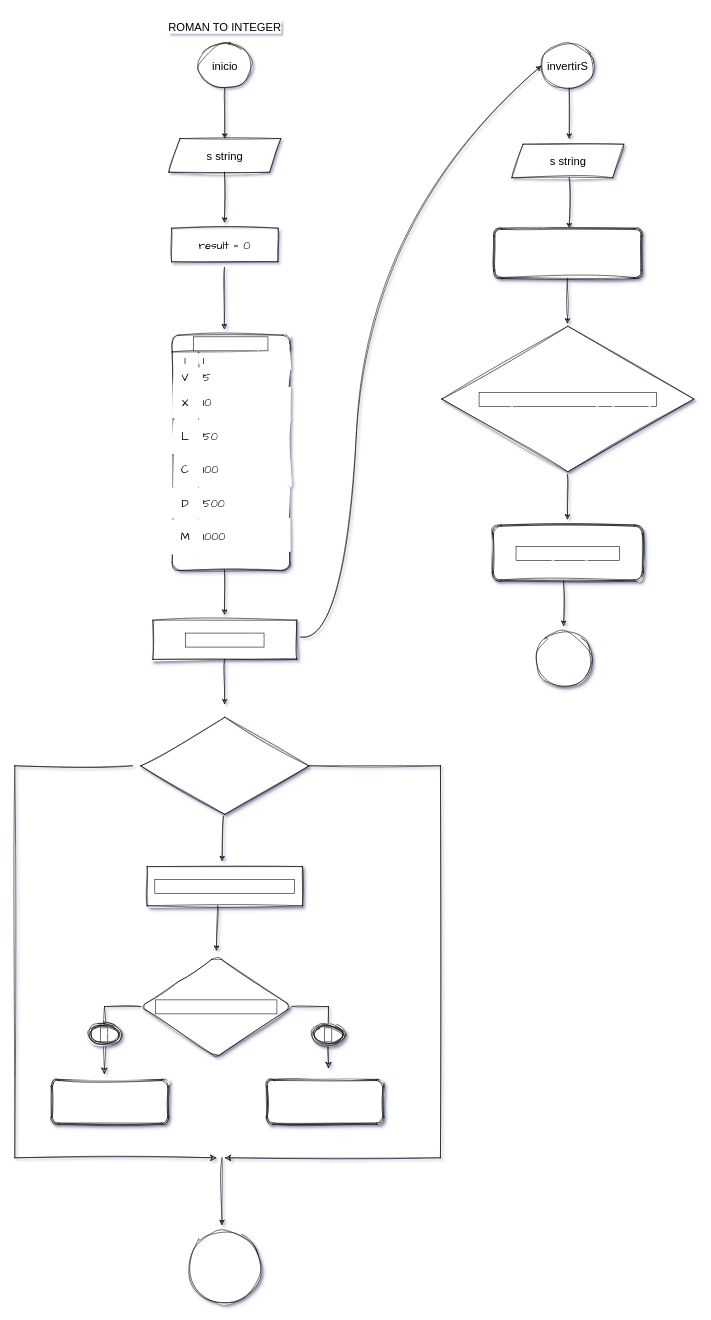
The diagram is 711 pixels wide and 1320 high, and some of its shapes have lost their labels. The centre of each missing label's shape, as x and y in pixels:
"for _, letra := range s" belongs at [225,766].
"r = []rune(s)" belongs at [568,254].
"resultado" belongs at [225,1267].
"resultado += numero" belongs at [110,1102].
"resultado -= numero" belongs at [325,1102].
"string(r)" belongs at [564,660].
